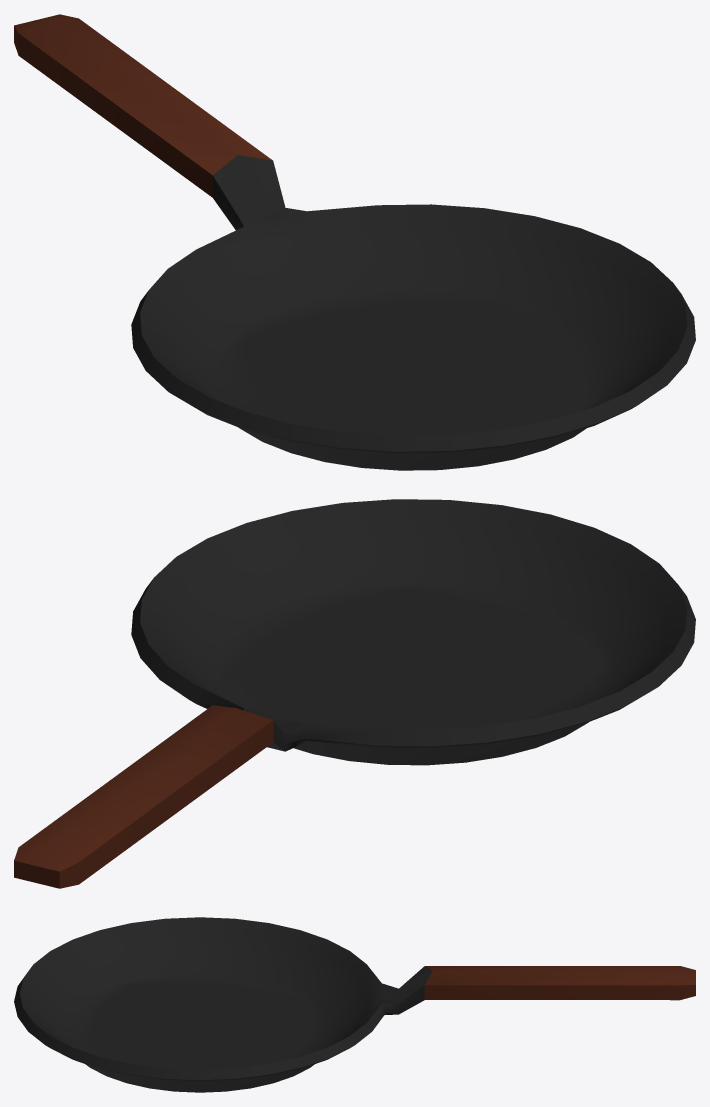
File: Pan.fbx
The picture shows the model from 3 angles, top to bottom: view 1: azimuth 30°, elevation 25°; view 2: azimuth 150°, elevation 25°; view 3: azimuth 270°, elevation 25°; orthographic projection. The views are drawn at different scales.
Visible parts, largest first — view 1: Pan; view 2: Pan; view 3: Pan.
Part boxes in pixels (x1=…): Pan: x1=14, y1=14, x2=695, y2=470; Pan: x1=14, y1=499, x2=695, y2=888; Pan: x1=14, y1=917, x2=695, y2=1092.
Size of the model in its own units: 356 by 70.38 by 651.
